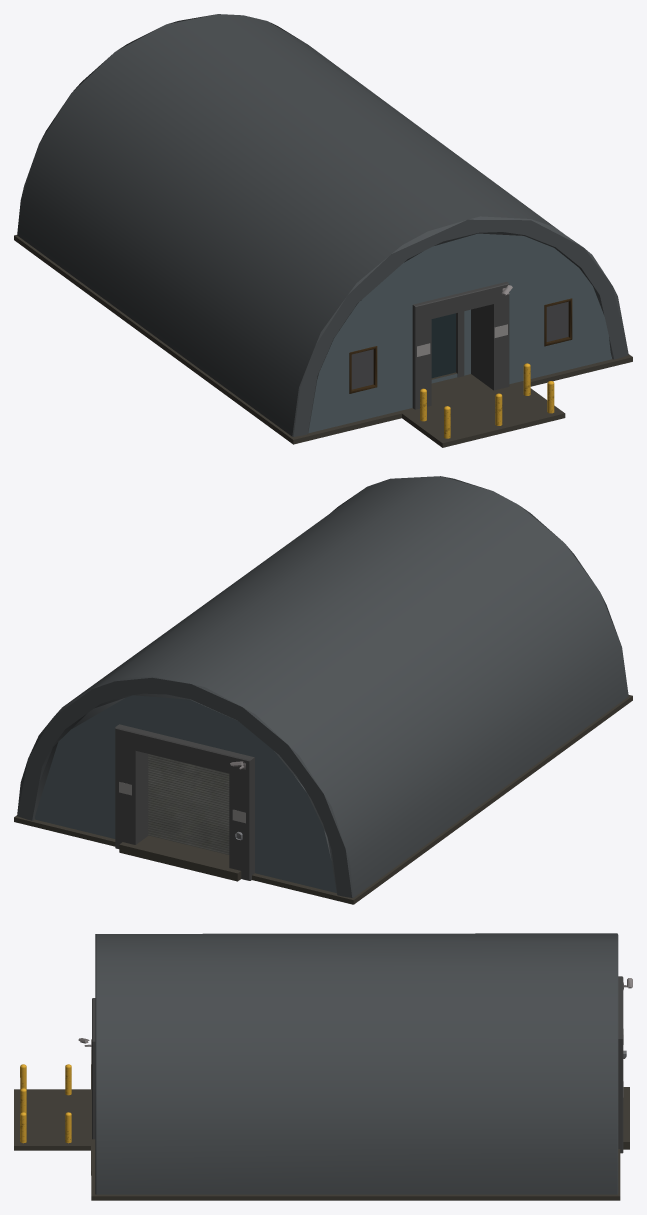
File: barracks.walls-v1.lod0.glb
The picture shows the model from 3 angles, top to bottom: view 1: azimuth 30°, elevation 25°; view 2: azimuth 150°, elevation 25°; view 3: azimuth 270°, elevation 25°; orthographic projection. The views are drawn at different scales.
Visible parts, largest first — view 1: Object_7, Barricades_Barricades_map_0; view 2: Object_7, Object_13; view 3: Object_7, Barricades_Barricades_map_0.
Part boxes in pixels (box(x1,y1,x2,y2)): Object_7: box(14, 14, 632, 447); Barricades_Barricades_map_0: box(420, 363, 554, 438); Object_7: box(14, 476, 632, 904); Object_13: box(148, 754, 229, 854); Object_7: box(14, 933, 632, 1200); Barricades_Barricades_map_0: box(20, 1064, 71, 1143).
Bounding box in the file's own units: 11.75 × 5.96 × 19.58.
Materials: 6 (4 with a texture image).
